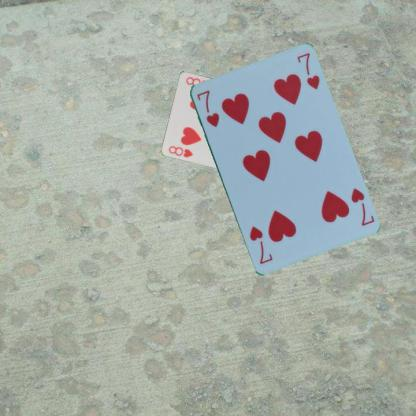7h: (348, 186, 375, 227), (194, 88, 220, 128)
8h: (167, 143, 194, 158)
